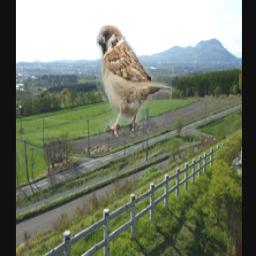Sparrow: (96, 26, 172, 138)
